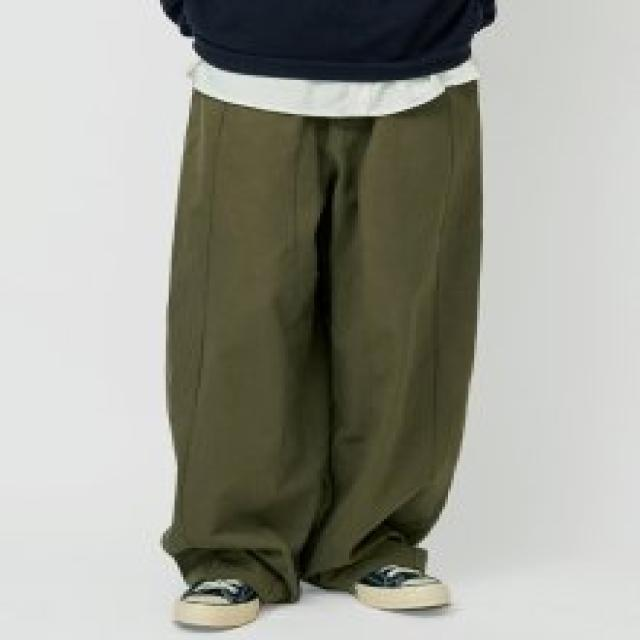long-pants: (160, 61, 490, 603)
